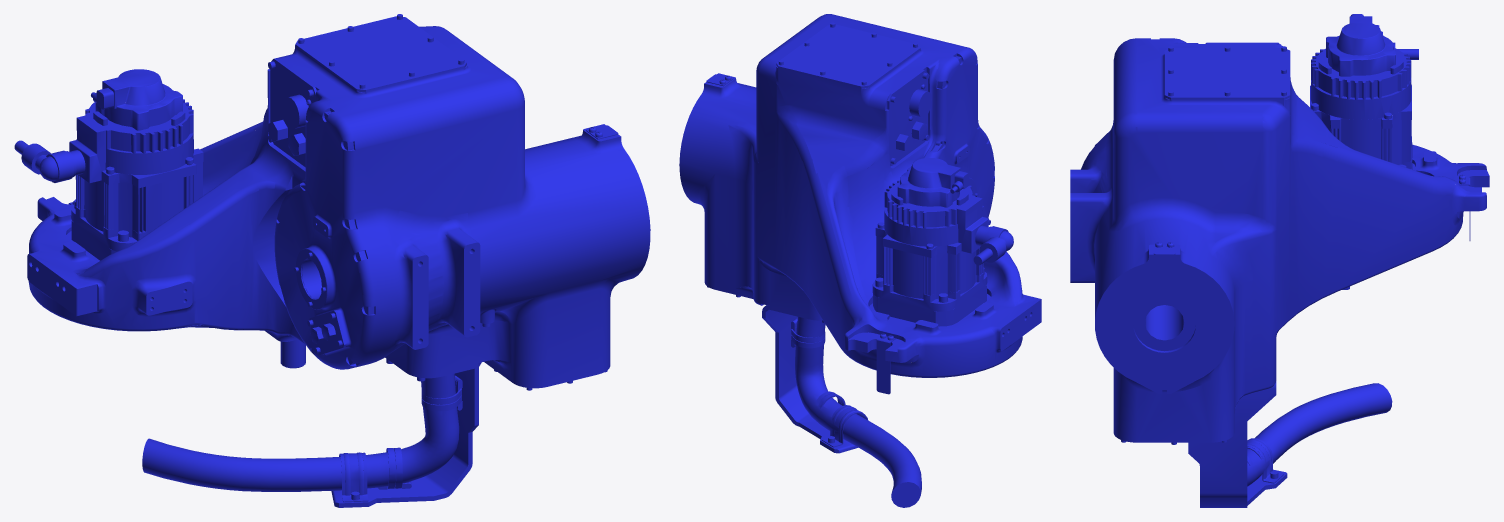
The picture shows the model from 3 angles, left to right: view 1: azimuth 30°, elevation 25°; view 2: azimuth 150°, elevation 25°; view 3: azimuth 270°, elevation 25°; orthographic projection. The views are drawn at different scales.
Parts seen in each view (by area): view 1: /Link3/Link3-mesh/0; view 2: /Link3/Link3-mesh/0; view 3: /Link3/Link3-mesh/0.
Boxes of the visible parts, x1,y1,x2,y2 form: /Link3/Link3-mesh/0: (14,14,650,507); /Link3/Link3-mesh/0: (679,14,1041,507); /Link3/Link3-mesh/0: (1070,14,1489,507).
Bounding box in the file's own units: 0.634 × 0.5851 × 0.5335.
